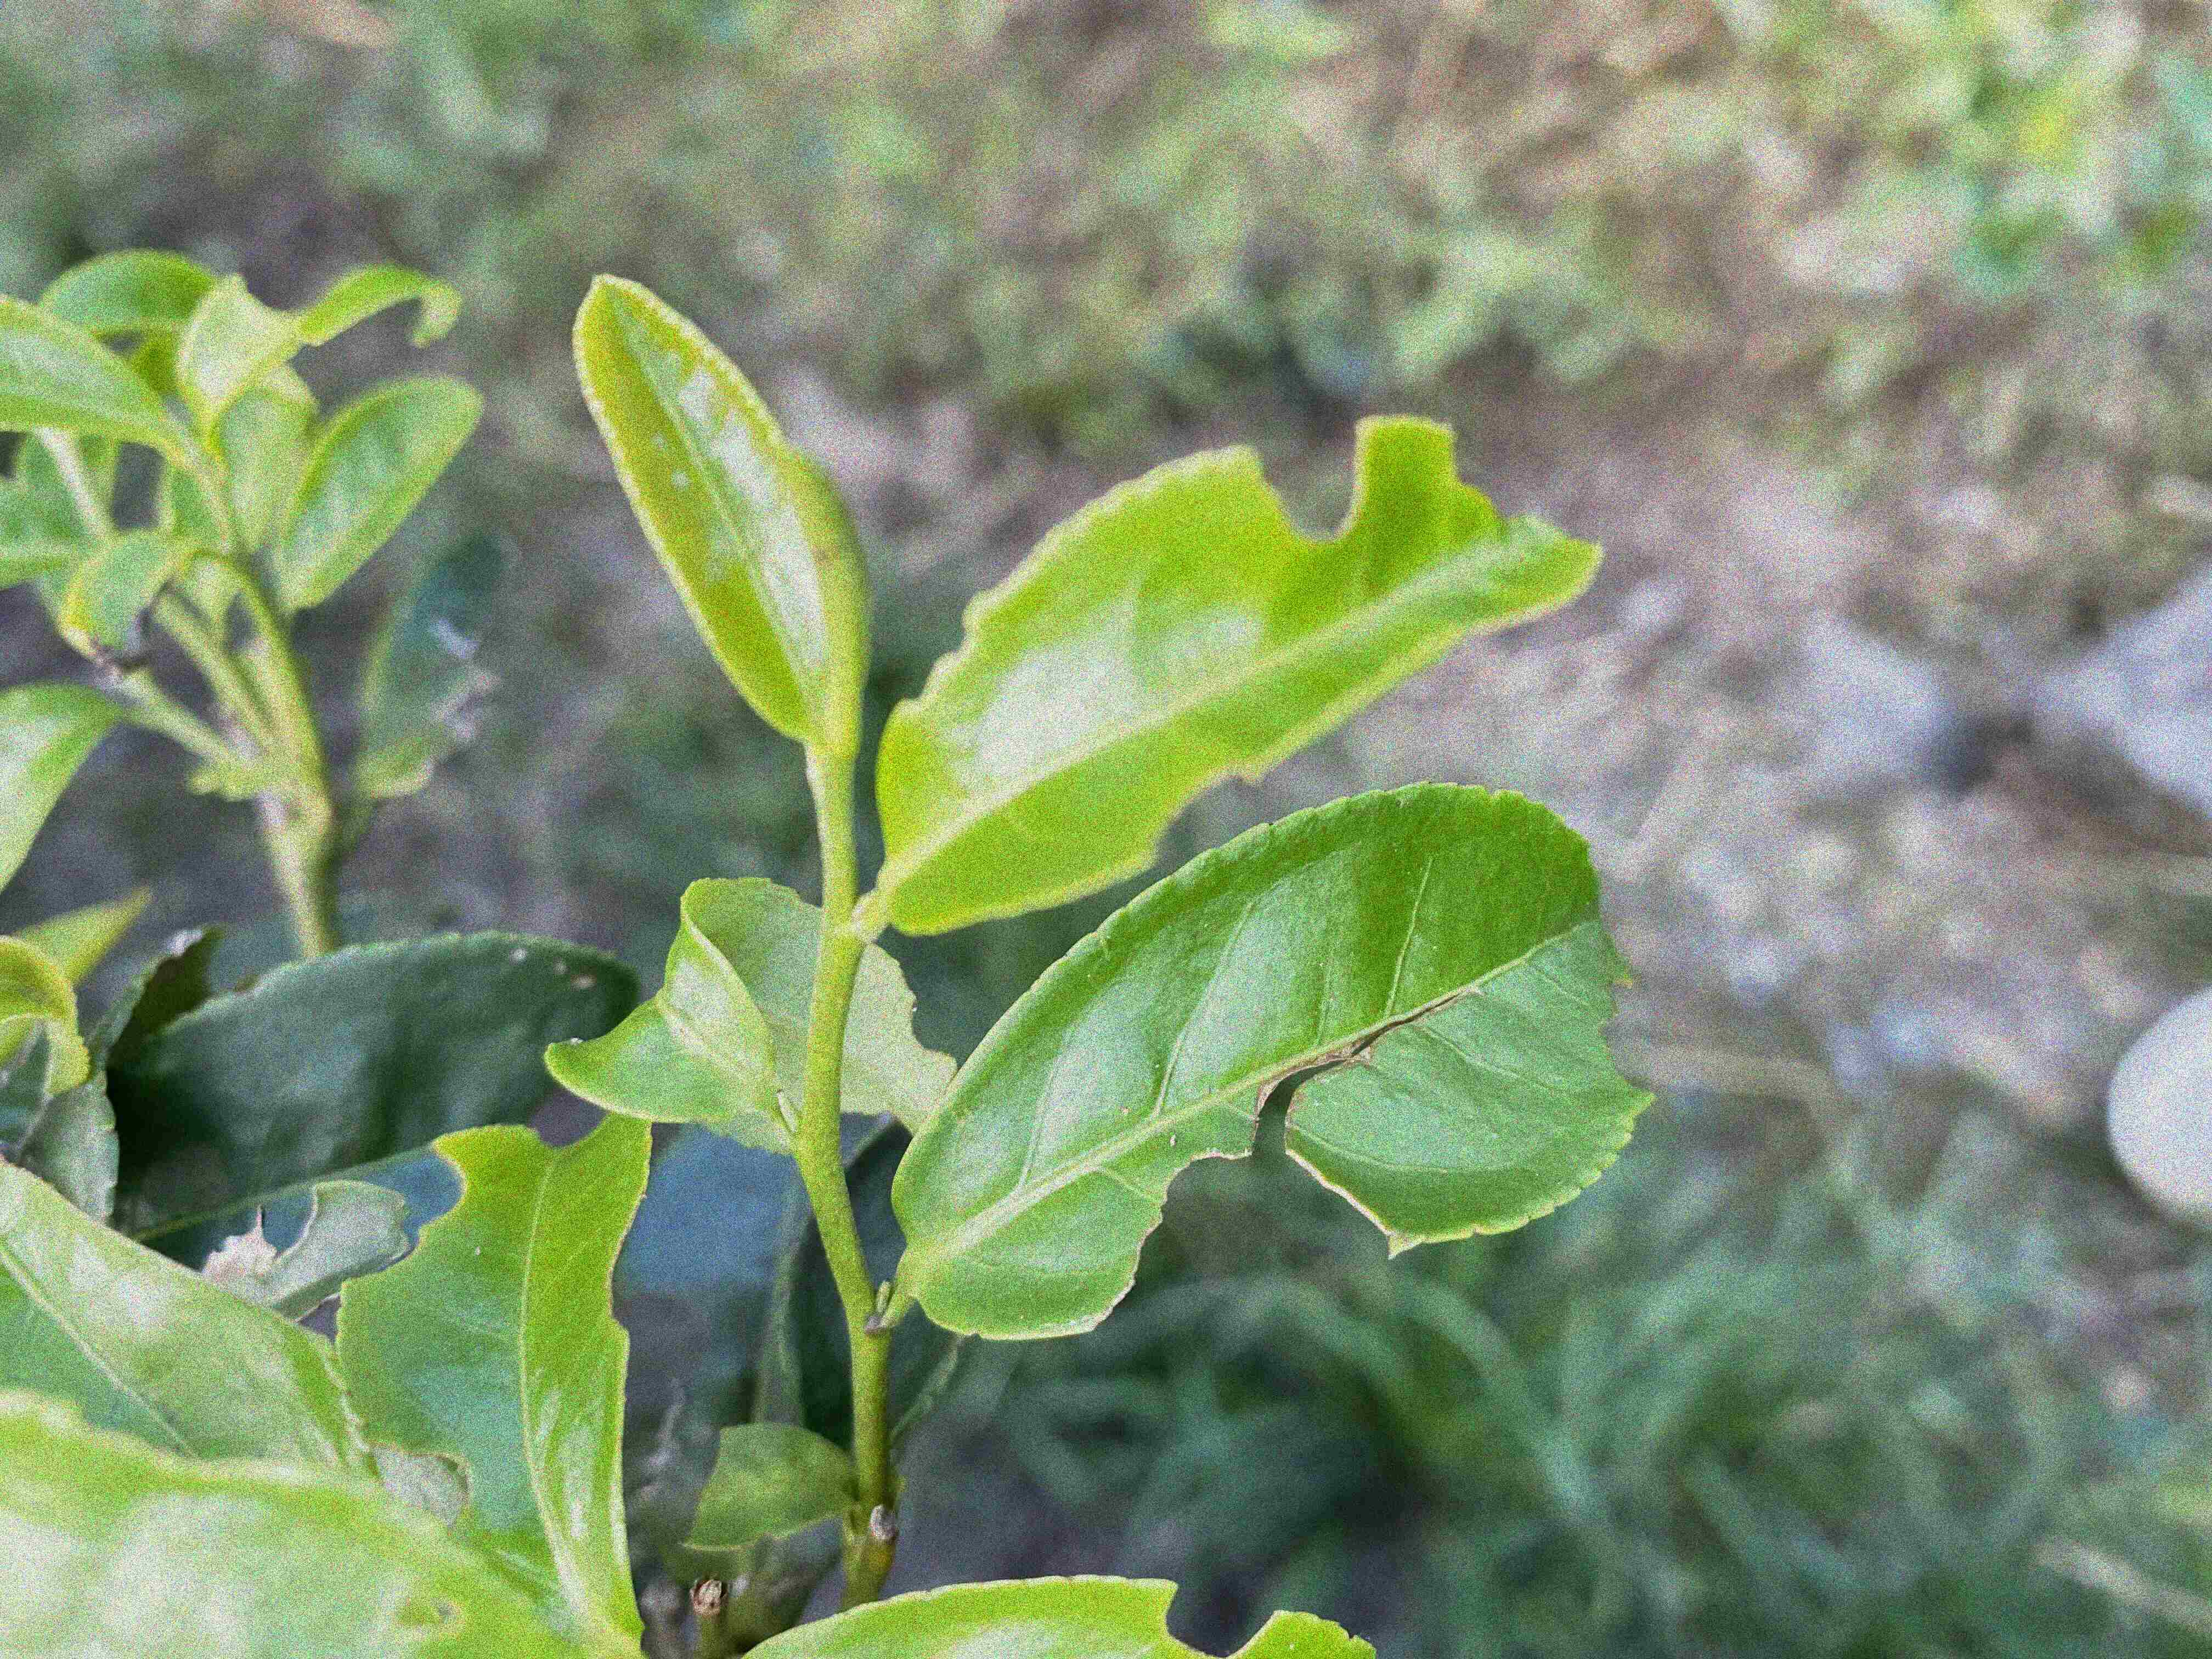chihuo_high: (888, 779, 1658, 1347), (876, 406, 1608, 939), (334, 1115, 658, 1652)
chihuo_low: (742, 1572, 1392, 1657)
healthy: (570, 272, 869, 741)
